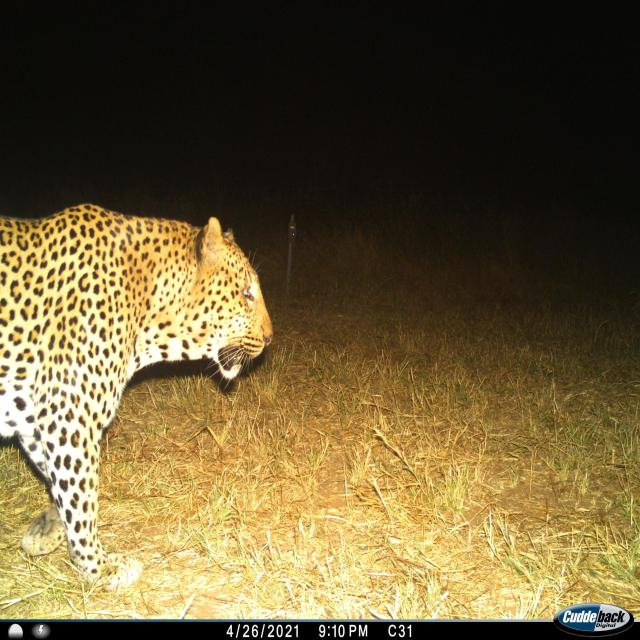Leopard: (0, 190, 281, 615)
